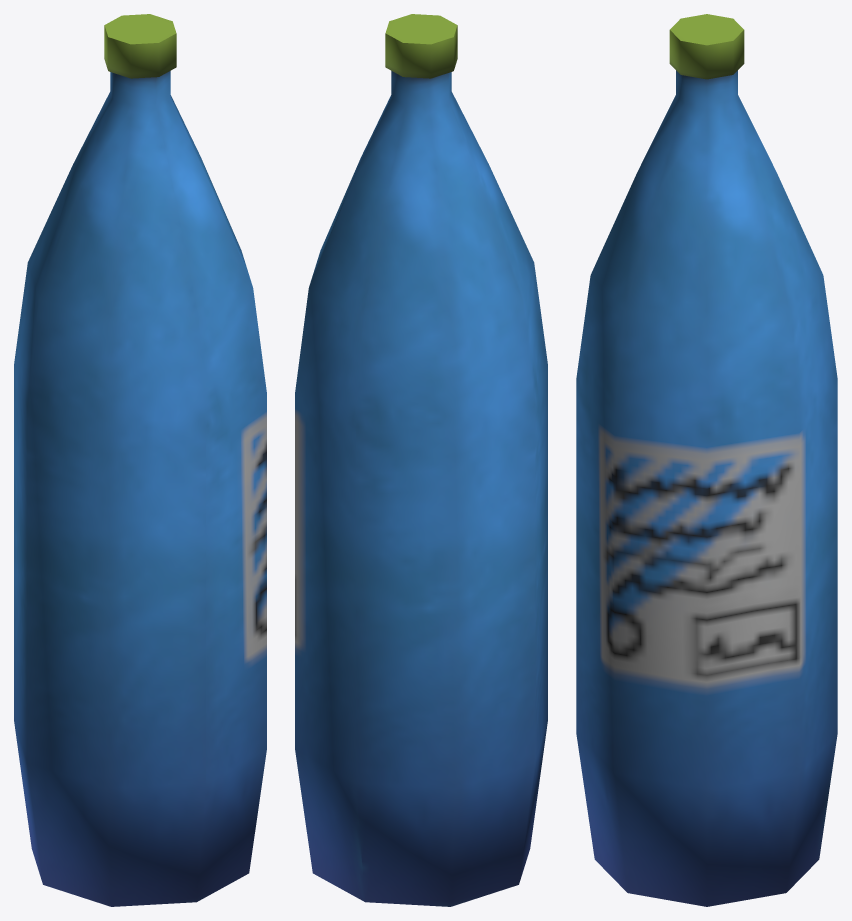
Rendered from Bottle1.fbx.
3 views of the same model, side by side, from view 1: azimuth 30°, elevation 25°; view 2: azimuth 150°, elevation 25°; view 3: azimuth 270°, elevation 25° (orthographic).
Visible parts, largest first — view 1: Bottle1; view 2: Bottle1; view 3: Bottle1.
Part boxes in pixels (<box>): Bottle1: <box>14,14,266,906</box>; Bottle1: <box>295,14,547,906</box>; Bottle1: <box>576,14,837,906</box>.
Size of the model in its own units: 0.0653 by 0.2288 by 0.0653.
Materials: 1 (1 with a texture image).
